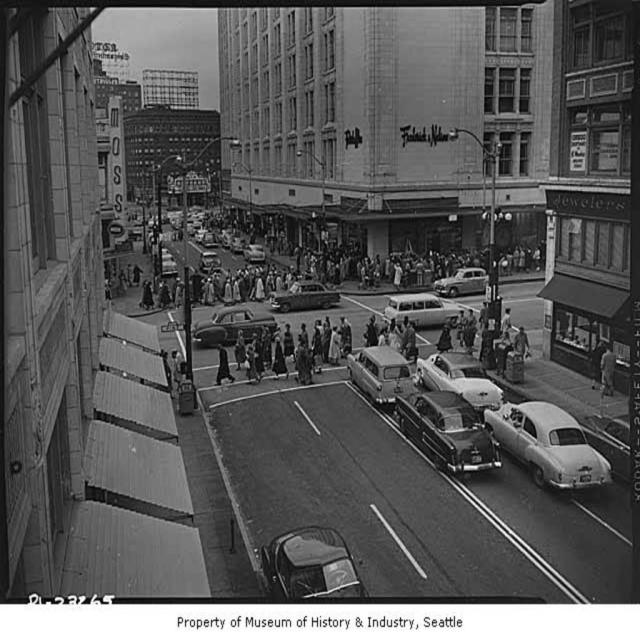car: (393, 390, 501, 472)
